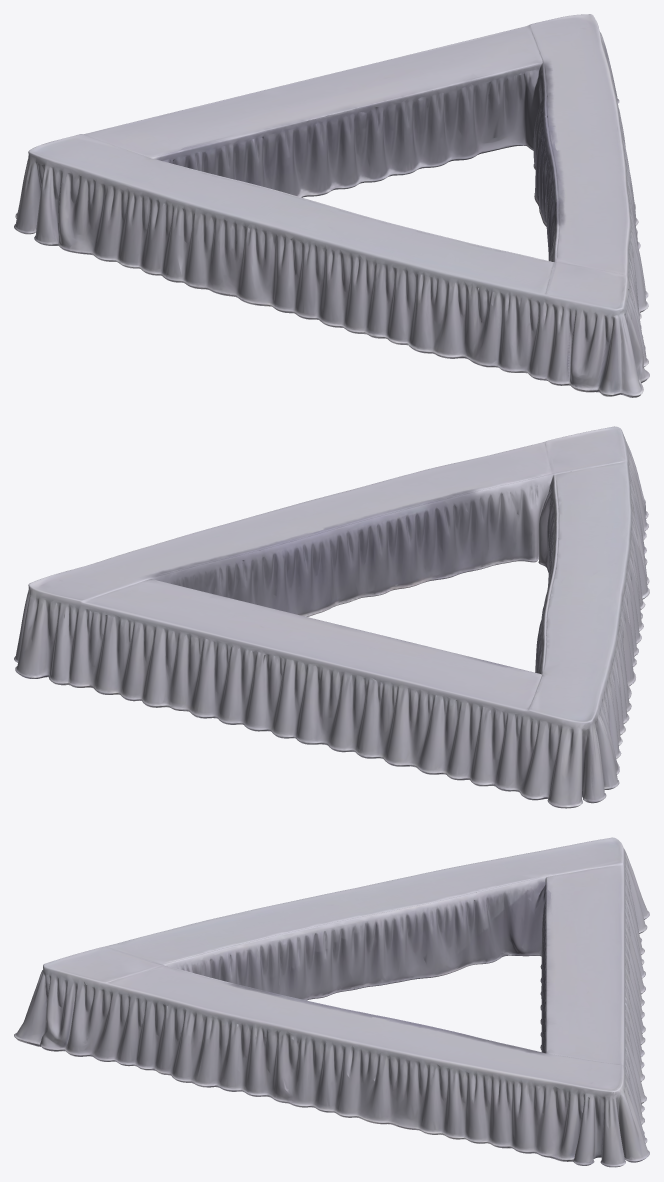
Rendered from table.glb.
The picture shows the model from 3 angles, top to bottom: view 1: azimuth 30°, elevation 25°; view 2: azimuth 150°, elevation 25°; view 3: azimuth 270°, elevation 25°; orthographic projection. The views are drawn at different scales.
Visible parts, largest first — view 1: node_0; view 2: node_0; view 3: node_0.
Boxes of the visible parts, left/top/right/bottom form: node_0: left=14, top=14, right=649, bottom=397; node_0: left=14, top=426, right=649, bottom=808; node_0: left=14, top=837, right=649, bottom=1167.
Bounding box in the file's own units: 8.89 × 1.16 × 9.
1 material, 1 textured.
